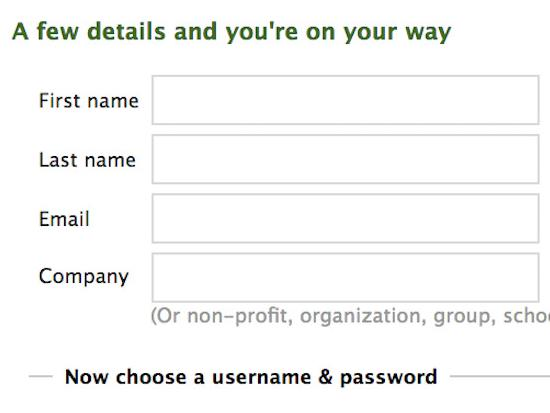field: (147, 72, 542, 128), (147, 192, 544, 246), (149, 250, 544, 304), (149, 132, 542, 186)
field_with_label: (34, 129, 549, 195), (34, 69, 547, 134)
